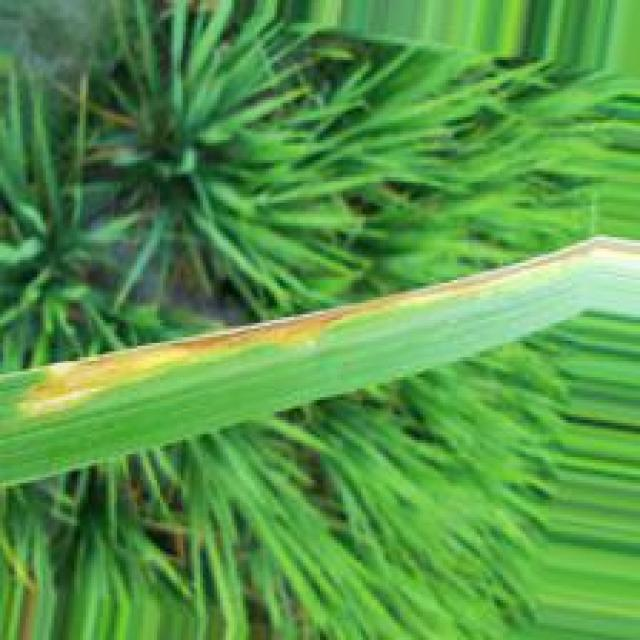Bacterial_Leaf_Blight: (22, 238, 596, 419)
